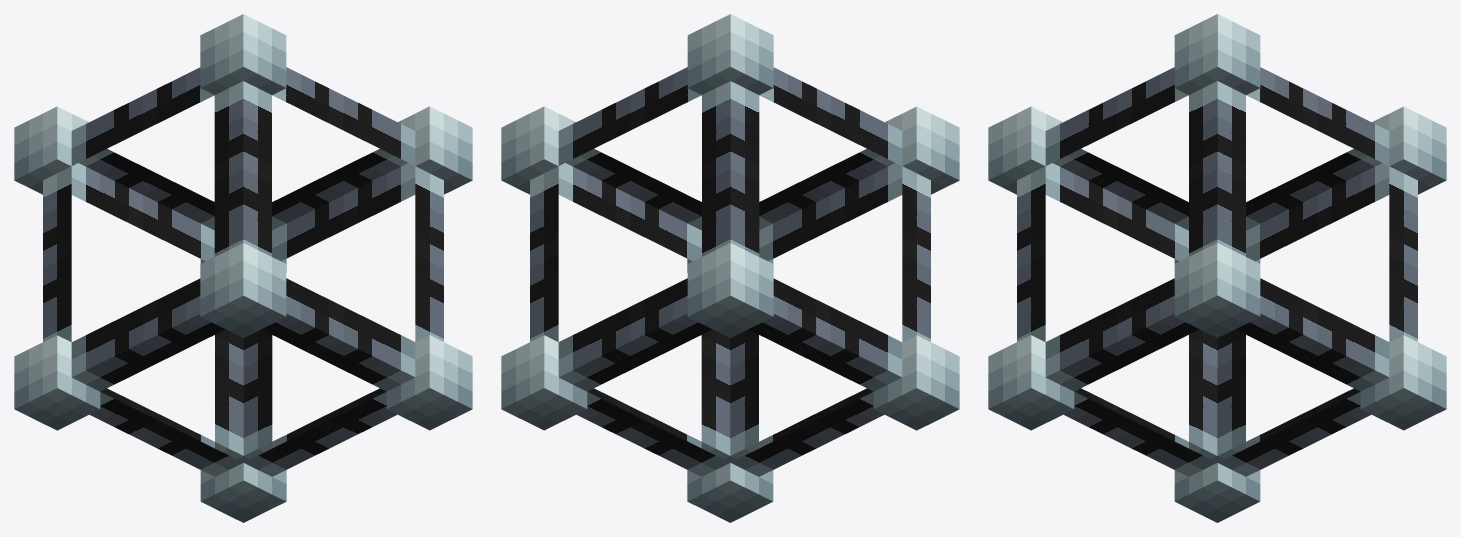
Rendered from supplier_lower_exterior.obj.
The picture shows the model from 3 angles, left to right: view 1: azimuth 30°, elevation 25°; view 2: azimuth 150°, elevation 25°; view 3: azimuth 270°, elevation 25°; orthographic projection.
Parts seen in each view (by area): view 1: LOWER_EXTERIOR_Cube.001; view 2: LOWER_EXTERIOR_Cube.001; view 3: LOWER_EXTERIOR_Cube.001.
Boxes of the visible parts, left/top/right/bottom form: LOWER_EXTERIOR_Cube.001: left=14, top=14, right=472, bottom=522; LOWER_EXTERIOR_Cube.001: left=501, top=14, right=959, bottom=522; LOWER_EXTERIOR_Cube.001: left=988, top=14, right=1446, bottom=522.
Bounding box in the file's own units: 1.63 × 1.73 × 1.41.
